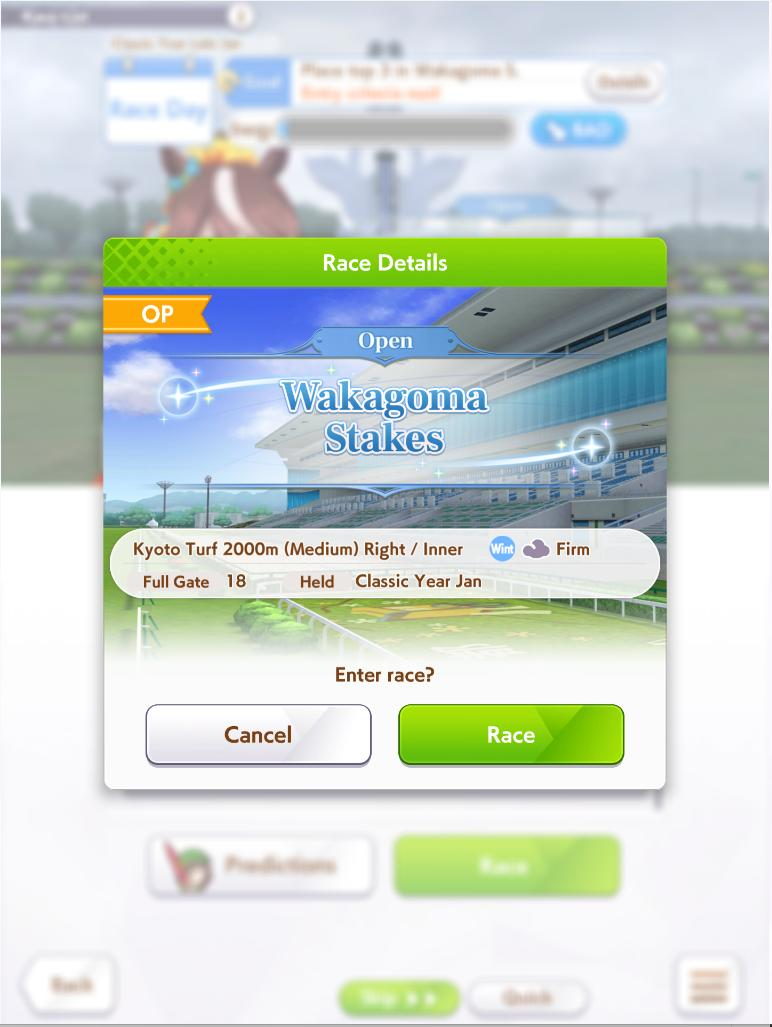cancel: (139, 699, 376, 774)
race_green: (395, 703, 631, 774)
